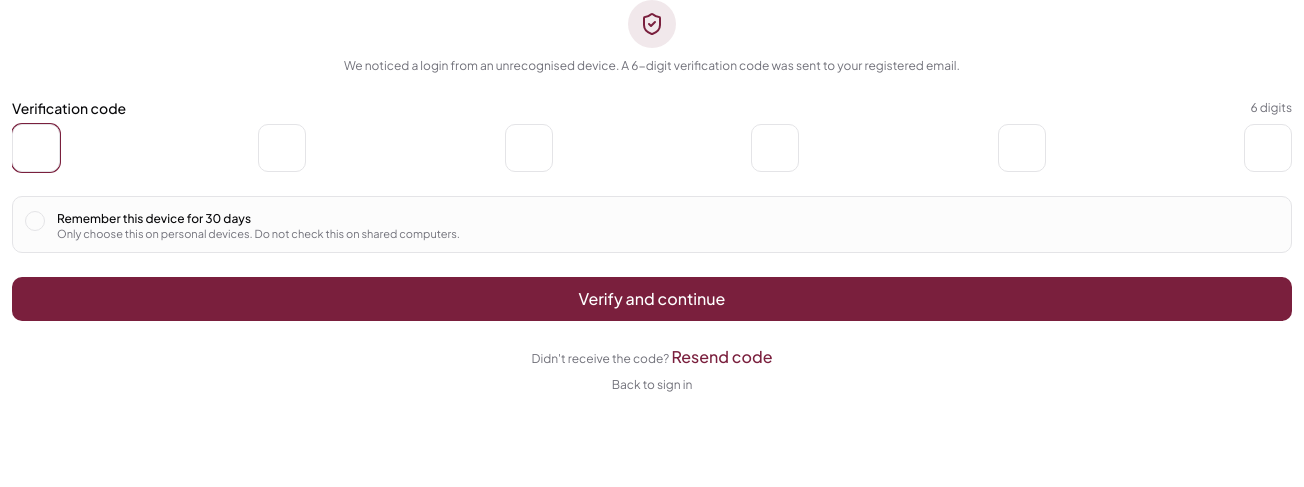
VerifyDeviceForm (F10) › displays attempt-limit / throttling banner when rate limited (429)
The image size is (1304, 487).
Type keys "123456"
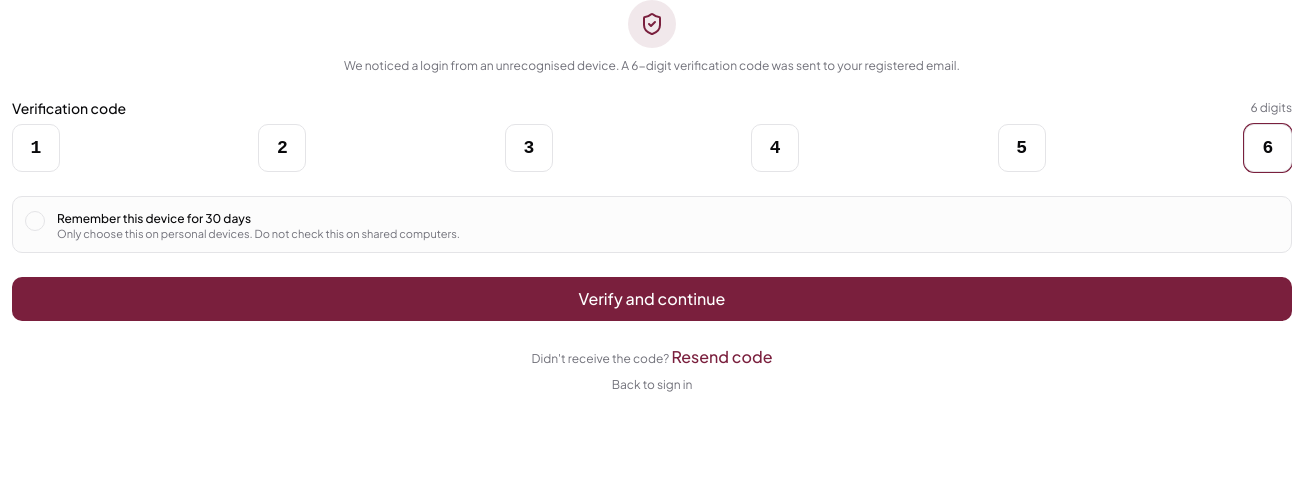
Click the button "Verify and continue" at (652, 299), box left=12, top=277, right=1292, bottom=321
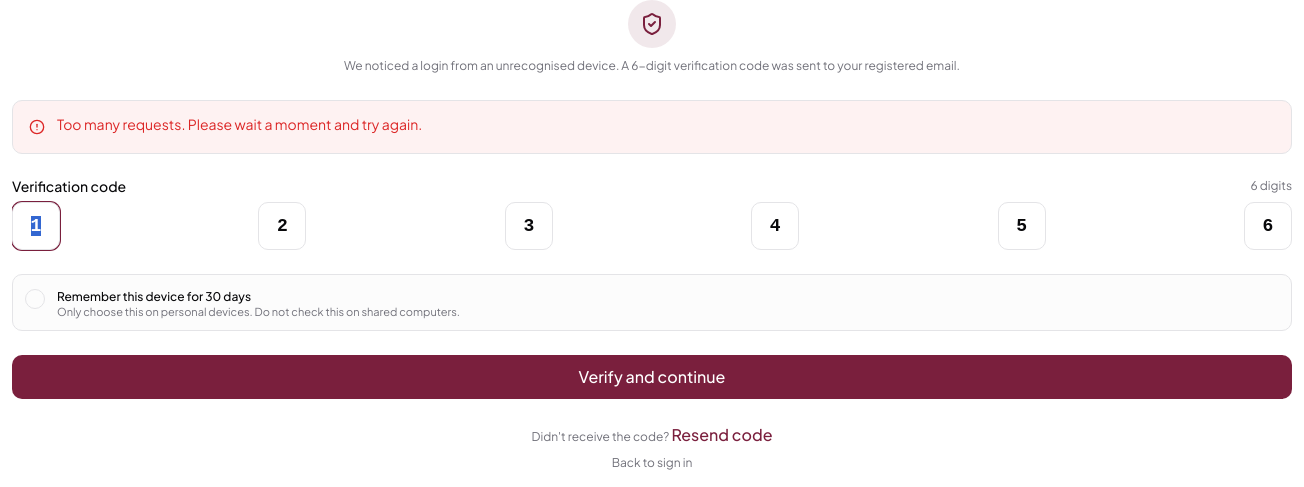
Expected: the message "Too many requests. Please wait a moment and try again." is shown, left=12, top=100, right=1292, bottom=154
Expected: the message reads "Too many requests. Please wait a moment and try again.", left=57, top=114, right=422, bottom=132
